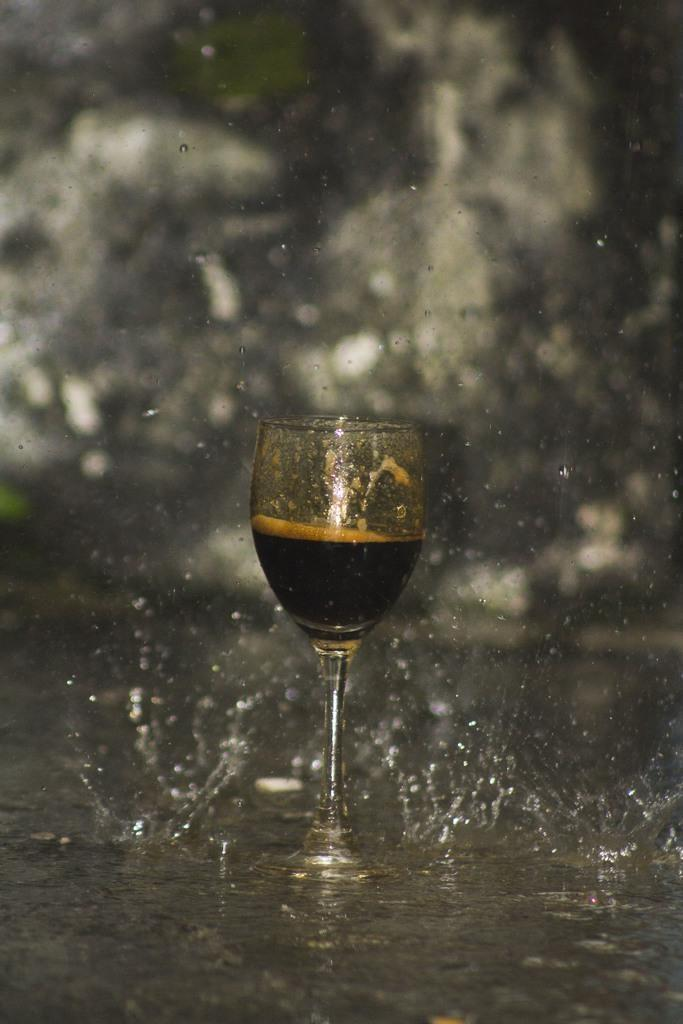glass-wine: (238, 413, 426, 881)
